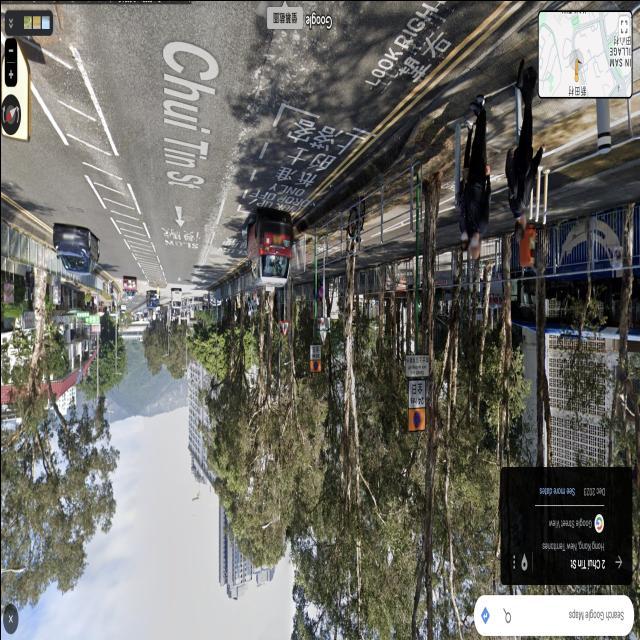Order-Sign: (408, 379, 425, 432), (405, 353, 428, 376), (309, 344, 320, 372)
Warning-Sign: (279, 321, 289, 337)
